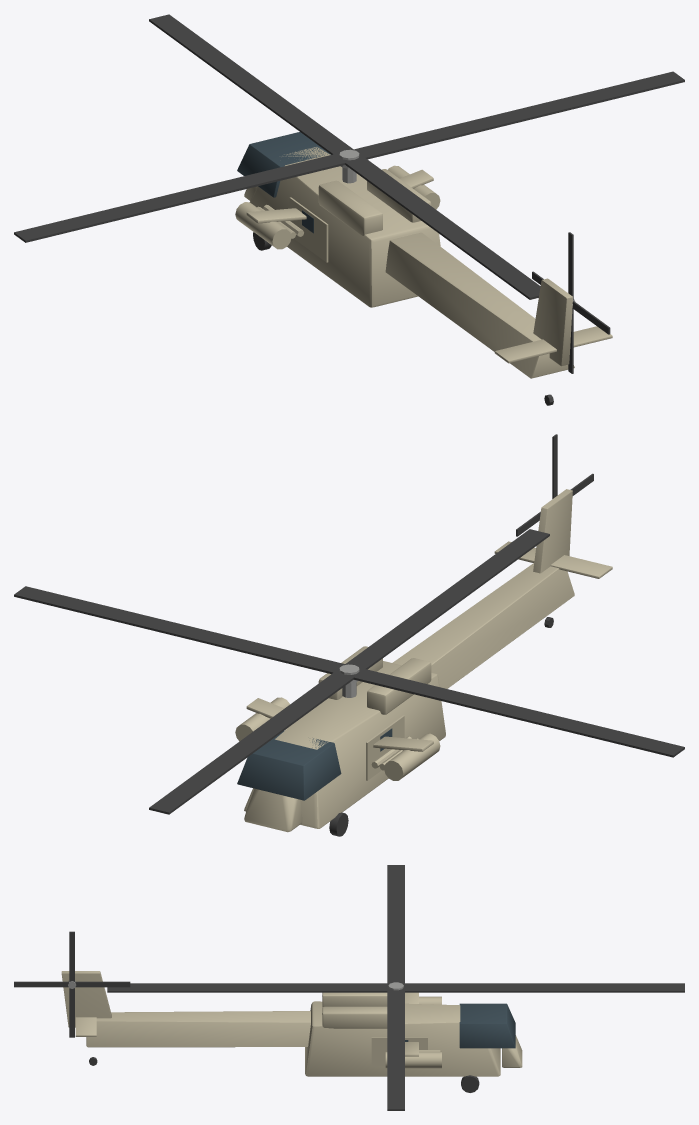
Rendered from usa_heli_dap.glb.
The picture shows the model from 3 angles, top to bottom: view 1: azimuth 30°, elevation 25°; view 2: azimuth 150°, elevation 25°; view 3: azimuth 270°, elevation 25°; orthographic projection. The views are drawn at different scales.
Parts seen in each view (by area): view 1: body, rotor, trotor; view 2: body, rotor, trotor; view 3: body, rotor, trotor.
Boxes of the visible parts, box(x1,y1,x2,y2) form: body: box(235, 132, 612, 405); rotor: box(14, 14, 684, 299); trotor: box(532, 232, 610, 373); body: box(235, 489, 612, 836); rotor: box(14, 529, 684, 814); trotor: box(516, 434, 593, 536); body: box(61, 971, 522, 1092); rotor: box(107, 865, 684, 1110); trotor: box(14, 931, 130, 1037).
Size of the model in its own units: 16.4 by 4.66 by 19.05.
